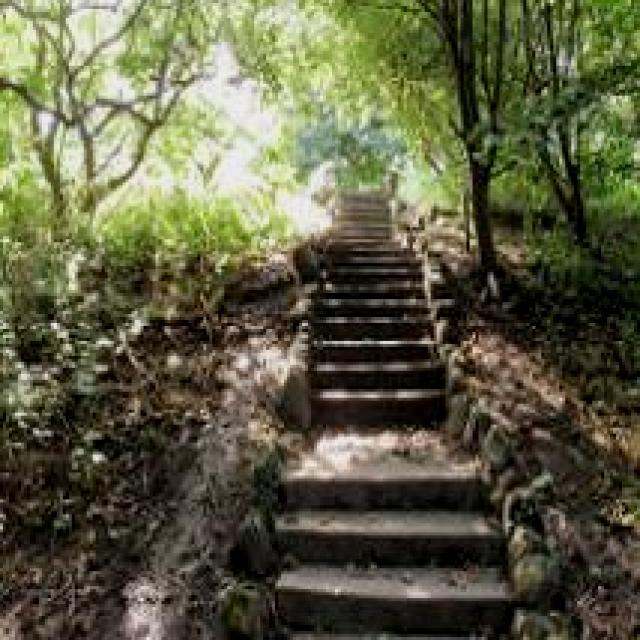upstair: (291, 234, 486, 629)
